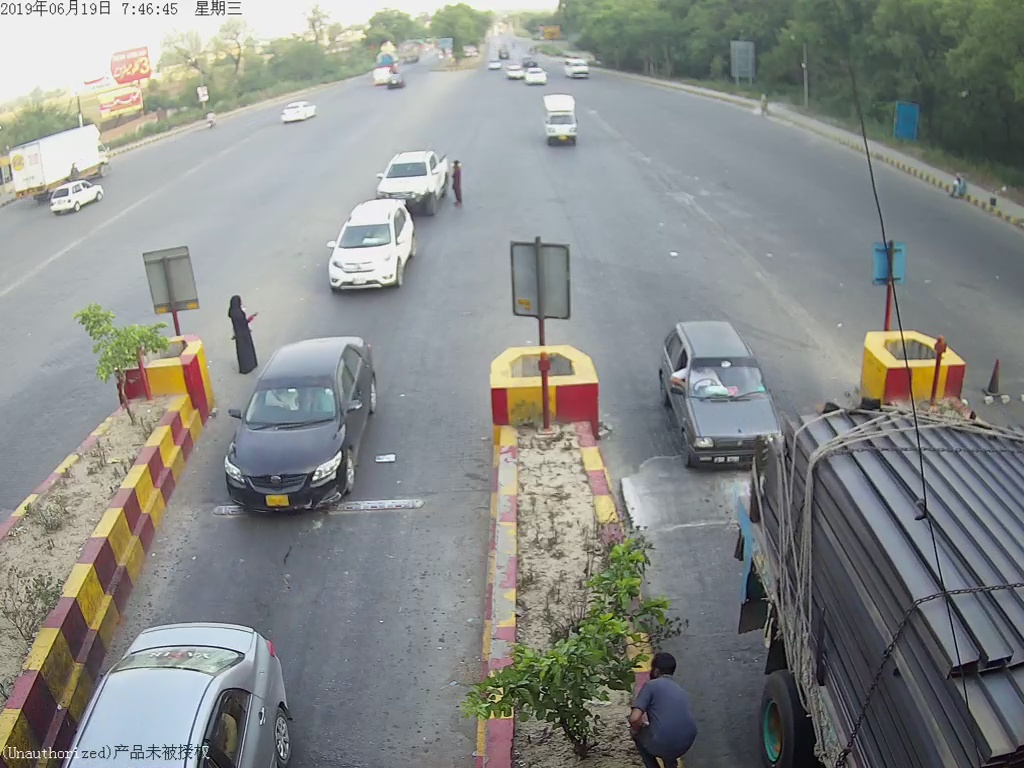Cat-1: (233, 337, 375, 515), (656, 319, 768, 471), (319, 200, 421, 307)
